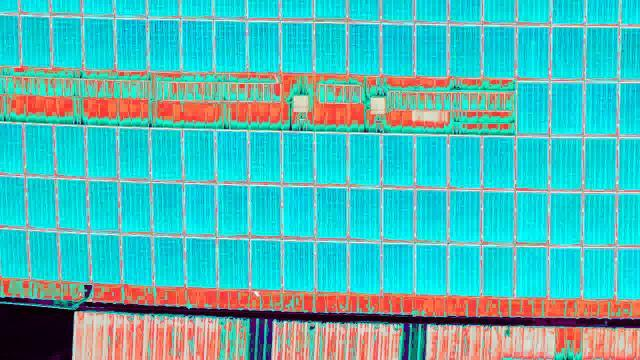dirty: (16, 13, 53, 71), (50, 14, 87, 72), (83, 15, 120, 73), (114, 15, 151, 73), (145, 17, 182, 75), (181, 16, 218, 74), (211, 14, 248, 72), (247, 17, 284, 75), (282, 19, 319, 77), (315, 21, 352, 79), (346, 21, 383, 79), (379, 21, 416, 79), (413, 22, 450, 80), (445, 20, 482, 78), (480, 20, 517, 78), (514, 24, 551, 82), (551, 23, 588, 81), (582, 28, 619, 86), (582, 81, 619, 139), (548, 82, 585, 140), (520, 80, 557, 138), (517, 133, 554, 191), (550, 136, 587, 194), (584, 134, 621, 192), (478, 136, 515, 194), (444, 135, 481, 193), (412, 132, 449, 190), (378, 133, 415, 191), (340, 128, 377, 186), (305, 131, 342, 189), (280, 129, 317, 187), (244, 128, 281, 186), (212, 126, 249, 184), (181, 126, 218, 184), (148, 128, 185, 186), (114, 126, 151, 184), (81, 122, 118, 180), (50, 122, 87, 180), (19, 118, 56, 176), (22, 176, 59, 234), (55, 175, 92, 233), (81, 178, 118, 236), (117, 177, 154, 235), (142, 179, 179, 237), (179, 178, 216, 236), (213, 181, 250, 239), (243, 184, 280, 242), (278, 186, 315, 244), (310, 187, 347, 245), (346, 187, 383, 245), (380, 188, 417, 246), (413, 188, 450, 246), (444, 189, 481, 247), (478, 191, 515, 249), (514, 190, 551, 248), (548, 191, 585, 249), (579, 190, 616, 248), (582, 246, 619, 304), (544, 246, 581, 304), (514, 244, 551, 302), (476, 246, 513, 304), (445, 244, 482, 302), (412, 245, 449, 303), (379, 242, 416, 300), (343, 240, 380, 298), (311, 242, 348, 300), (282, 237, 319, 295), (242, 238, 279, 296), (214, 237, 251, 295), (183, 237, 220, 295), (149, 235, 186, 293), (118, 234, 155, 292), (82, 233, 119, 291), (54, 231, 91, 289), (25, 226, 62, 284), (1, 229, 29, 282), (1, 175, 29, 228), (1, 125, 22, 173)
